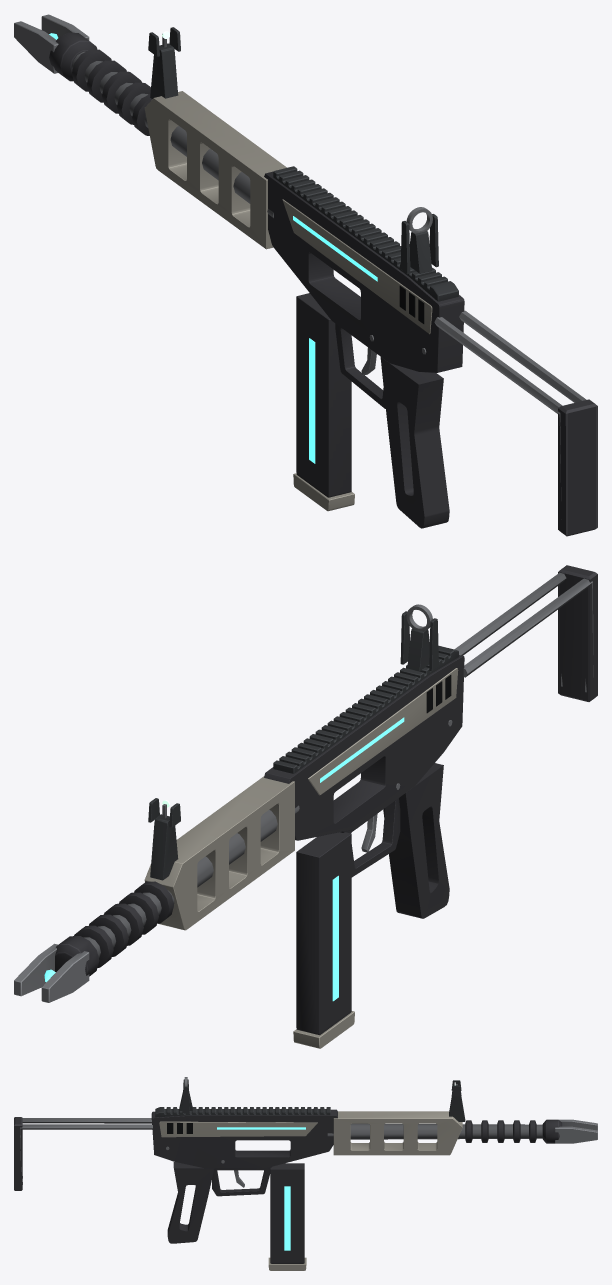
The model's file is e_assault.glb.
3 views of the same model, one above another, from view 1: azimuth 30°, elevation 25°; view 2: azimuth 150°, elevation 25°; view 3: azimuth 270°, elevation 25° (orthographic). The views are drawn at different scales.
Visible parts, largest first — view 1: Body, Cell, ThirdPersonOnly, IronSight; view 2: Body, Cell, ThirdPersonOnly, IronSight; view 3: Body, Cell, ThirdPersonOnly, IronSight.
Part boxes in pixels (x1=…): Body: x1=14, y1=14, x2=464, y2=528; Cell: x1=293, y1=293, x2=354, y2=511; ThirdPersonOnly: x1=434, y1=310, x2=597, y2=536; IronSight: x1=148, y1=27, x2=438, y2=274; Body: x1=14, y1=645, x2=464, y2=1002; Cell: x1=293, y1=832, x2=354, y2=1048; ThirdPersonOnly: x1=454, y1=565, x2=597, y2=701; IronSight: x1=148, y1=604, x2=438, y2=880; Body: x1=151, y1=1107, x2=597, y2=1243; Cell: x1=268, y1=1163, x2=306, y2=1270; ThirdPersonOnly: x1=14, y1=1117, x2=152, y2=1190; IronSight: x1=179, y1=1077, x2=465, y2=1121.
Size of the model in its own units: 0.0391 by 0.3408 by 0.95.
